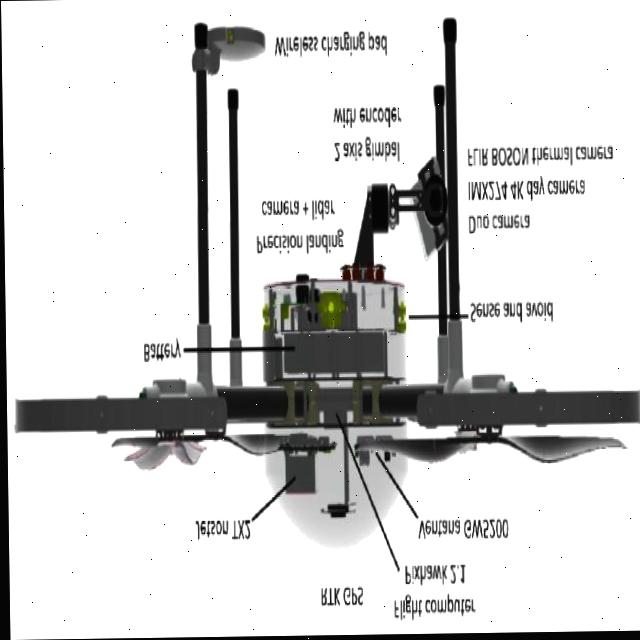drone: (17, 17, 640, 559)
